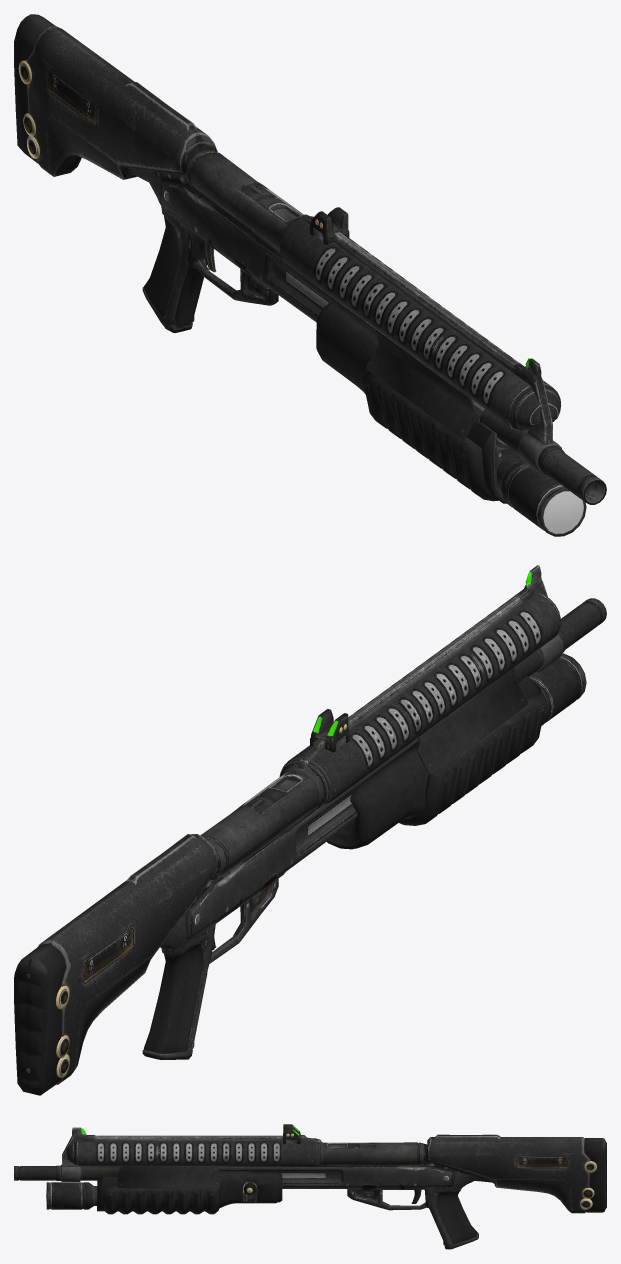
File: Shotgun_2.1.glb
3 renders of one model, top to bottom at view 1: azimuth 30°, elevation 25°; view 2: azimuth 150°, elevation 25°; view 3: azimuth 270°, elevation 25°, orthographic. The views are drawn at different scales.
Visible parts, largest first — view 1: Shotgun_2.006, stock, grip, site_2, flashlight; view 2: Shotgun_2.006, stock, grip, site_2; view 3: Shotgun_2.006, grip, stock, site_2.
Boxes of the visible parts, left/top/right/bottom form: Shotgun_2.006: left=14, top=14, right=606, bottom=536; stock: left=127, top=149, right=219, bottom=332; grip: left=363, top=370, right=498, bottom=501; site_2: left=298, top=214, right=562, bottom=474; flashlight: left=543, top=491, right=583, bottom=533; Shotgun_2.006: left=14, top=571, right=606, bottom=1095; stock: left=142, top=837, right=227, bottom=1059; grip: left=399, top=692, right=545, bottom=825; site_2: left=297, top=565, right=563, bottom=770; Shotgun_2.006: left=14, top=1124, right=606, bottom=1213; grip: left=103, top=1186, right=218, bottom=1214; stock: left=418, top=1142, right=494, bottom=1249; site_2: left=61, top=1127, right=322, bottom=1181.
Bounding box in the file's own units: 0.0781 × 0.21 × 0.9366.
Materials: 6 (4 with a texture image).
